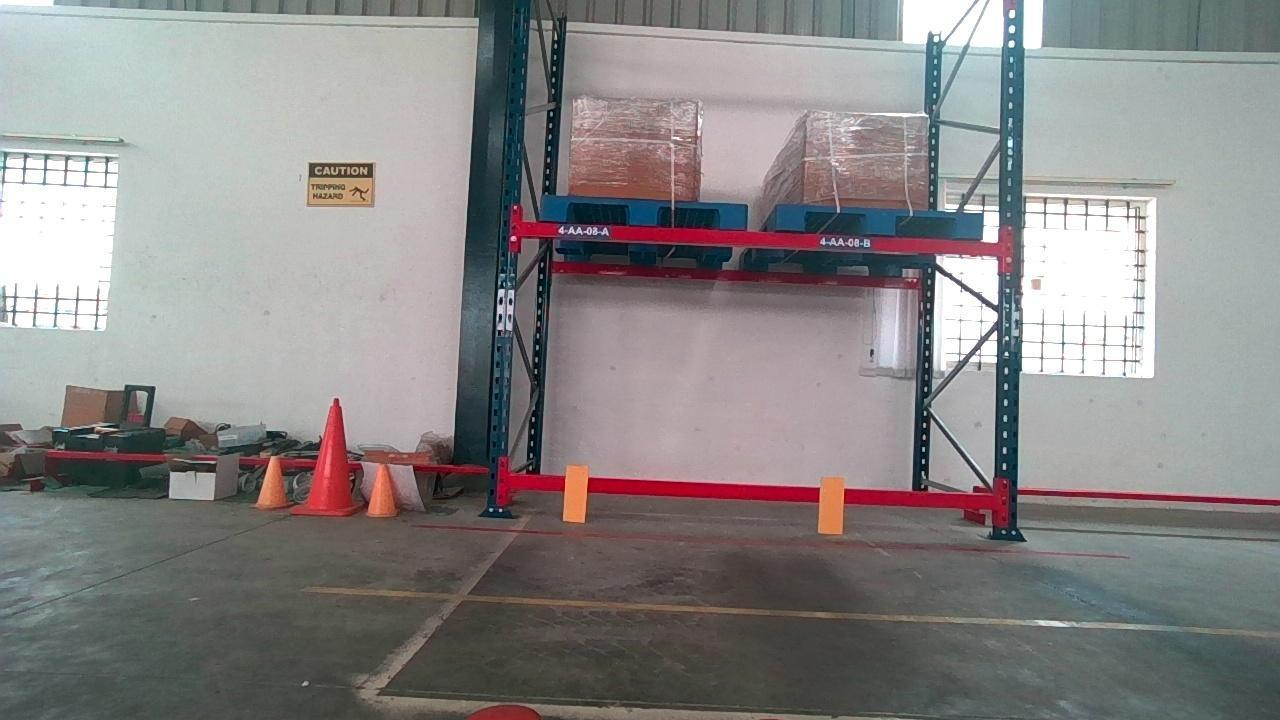h_rack: (507, 474, 1005, 511), (529, 225, 1010, 249)
orange_strip: (817, 477, 845, 533), (562, 465, 589, 520)
small_pallet: (536, 196, 742, 224), (779, 207, 984, 235)
yellow_line: (308, 581, 1276, 637)
